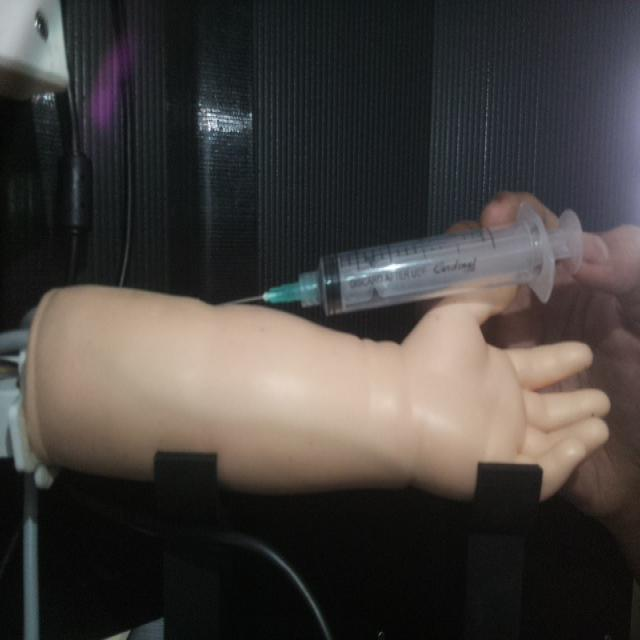Below 15 degrees: (229, 198, 585, 318)
